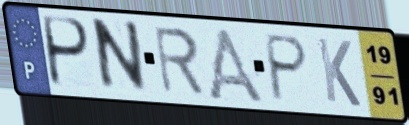A: (203, 25, 269, 107)
K: (314, 35, 364, 110)
N: (93, 16, 150, 96)
P: (42, 13, 93, 91), (264, 31, 311, 104)
R: (150, 24, 208, 97)
